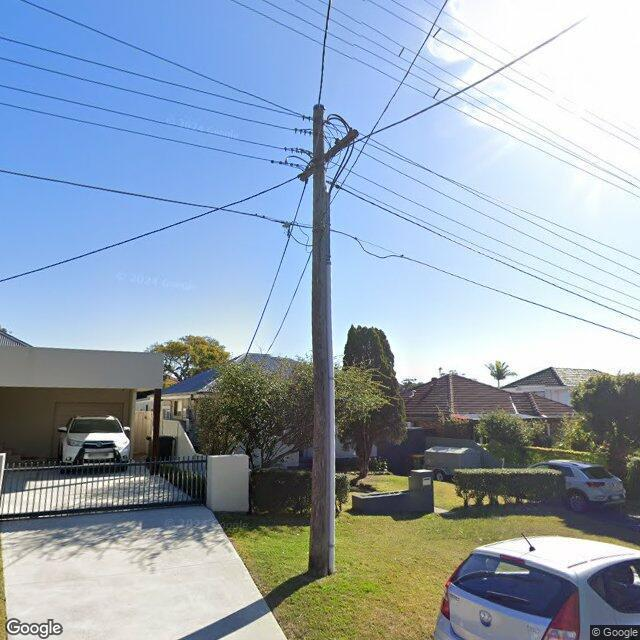crossarm: (298, 129, 360, 181)
timber-pole: (307, 104, 336, 576)
